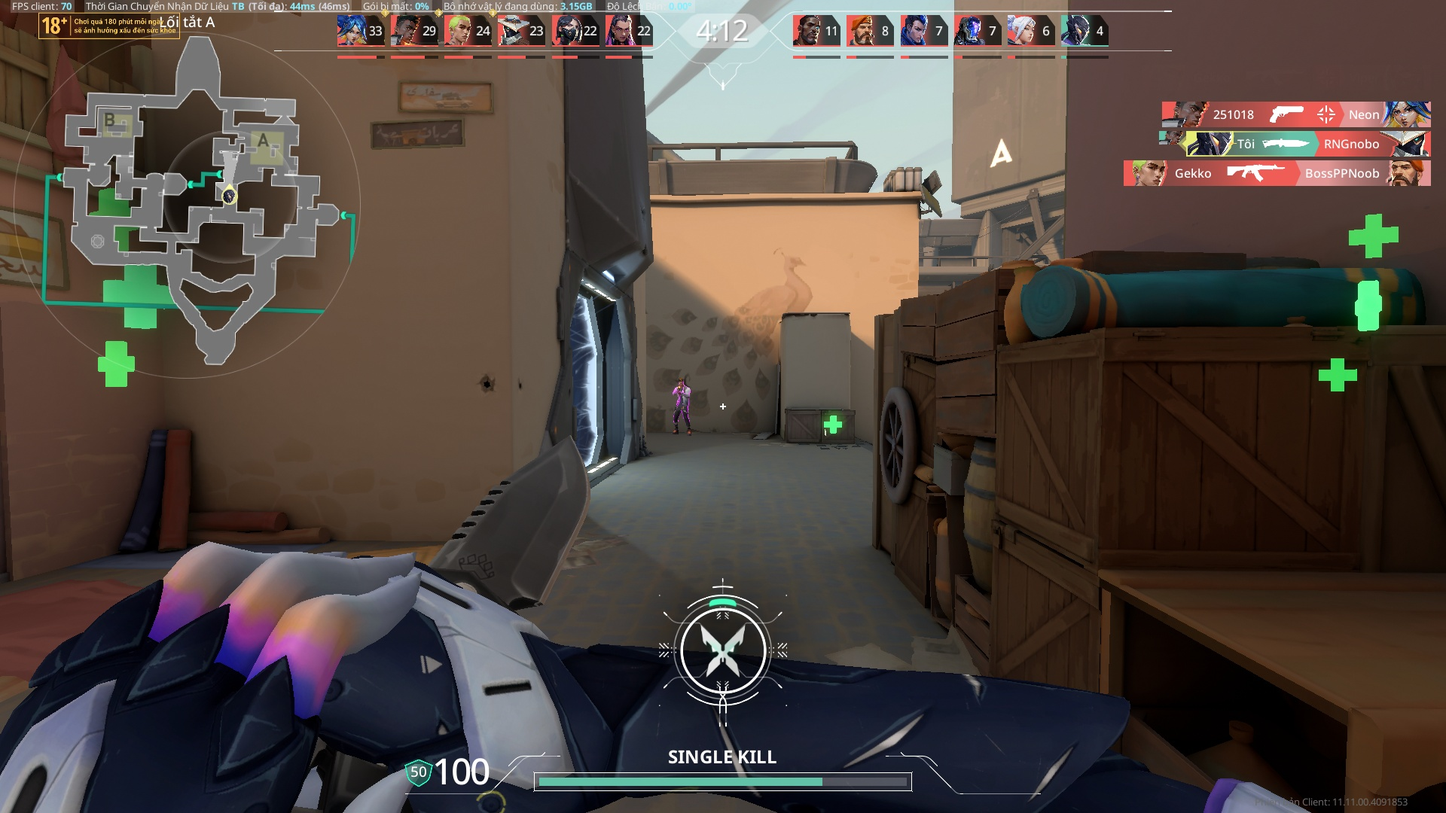body: (673, 383, 690, 405)
head: (676, 376, 685, 389)
